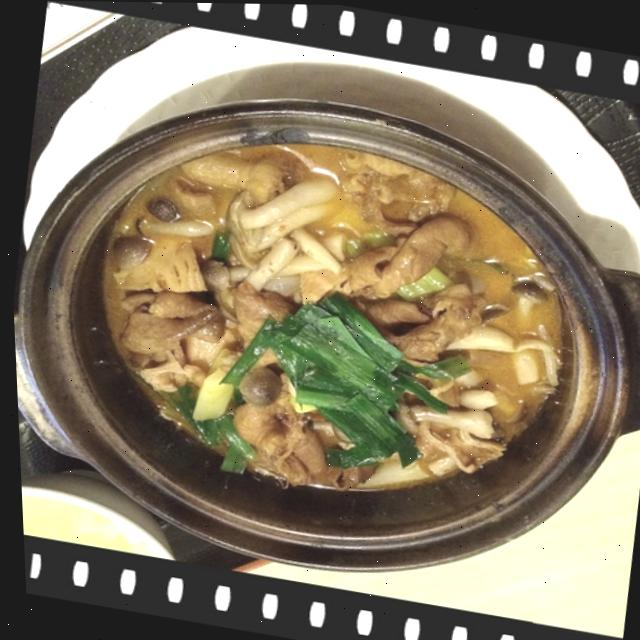汤锅炖物: (2, 57, 640, 612)
